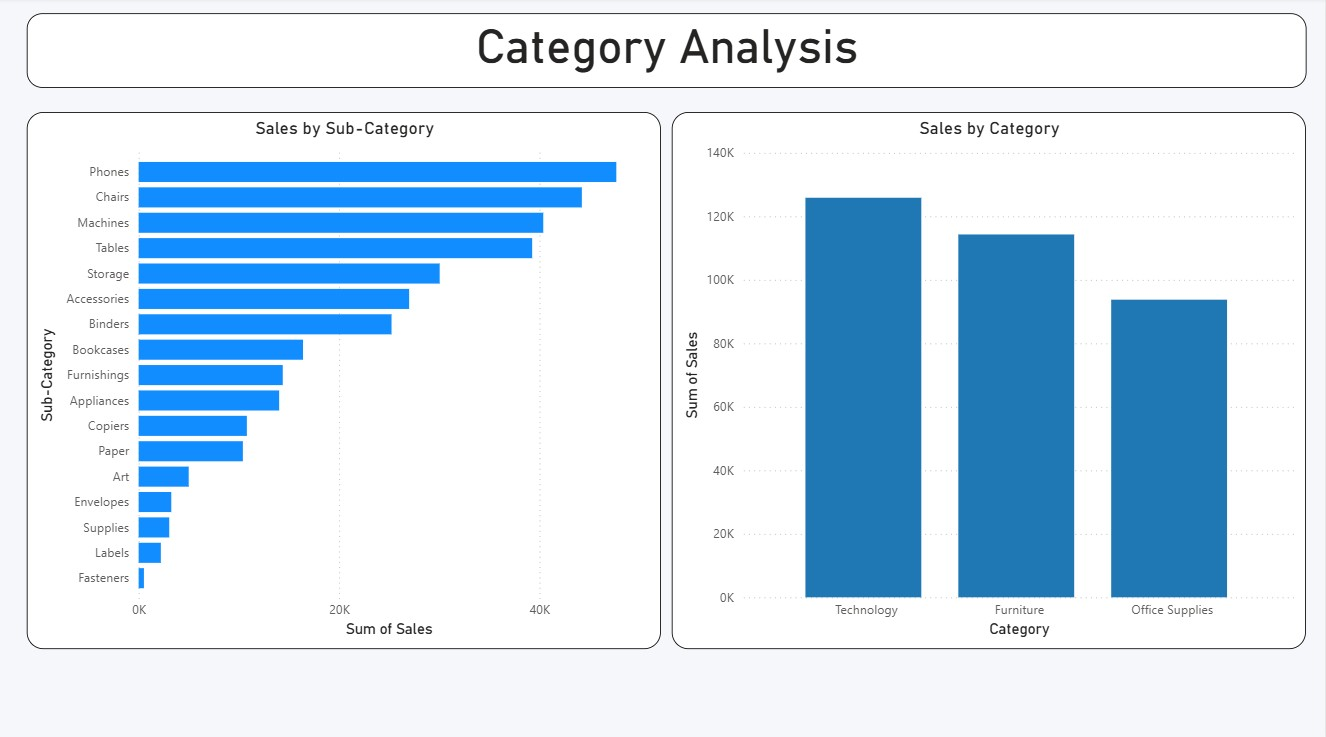

Layout of this report page (visuals, bound fields, positions):
{"tool":"powerbi","page":{"name":"Page 2","canvas":[1280,720],"ordinal":1},"visuals":[{"type":"clusteredBarChart","title":"Sales by Sub-Category","fields":{"Category":["cleaned_superstore.Sub-Category"],"Y":["Sum(cleaned_superstore.Sales)"]},"box":[27.5,111.5,612.4,518.3],"z":0},{"type":"clusteredColumnChart","title":" Sales by Category","fields":{"Category":["cleaned_superstore.Category"],"Y":["Sum(cleaned_superstore.Sales)"]},"box":[650,111,612,518],"z":1000},{"type":"textbox","title":"Category Analysis","box":[27.5,15.9,1234.9,72.4],"z":2000}]}

Visuals, with their boxes in screenshot pixels (x1, y1, x2, y2), scaled from the page's 1280x720 canvas onto the 1326x737 screenshot:
"Sales by Sub-Category" clusteredBarChart: bbox(28, 114, 663, 645)
" Sales by Category" clusteredColumnChart: bbox(673, 114, 1307, 644)
"Category Analysis" textbox: bbox(28, 16, 1308, 90)
